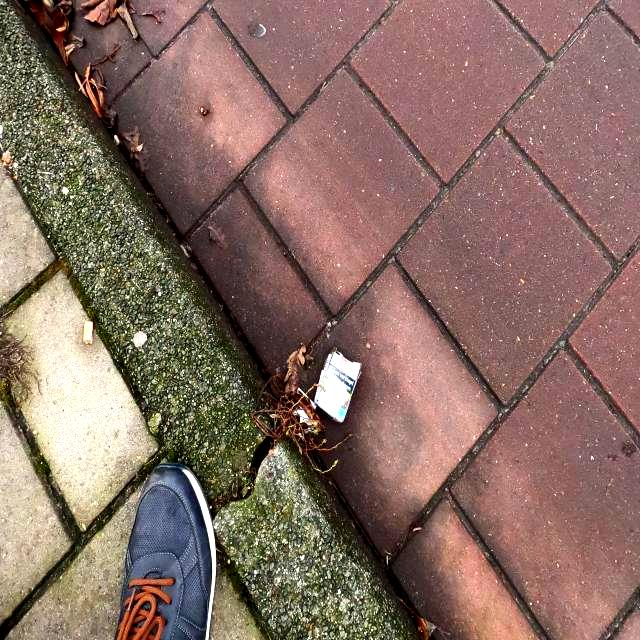Paper: (311, 348, 365, 420)
